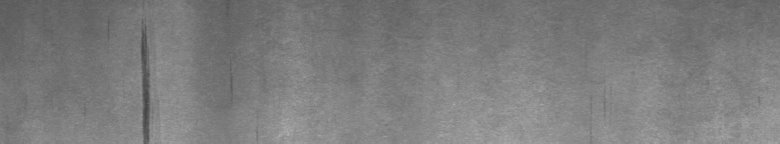hd: (134, 21, 156, 136)
